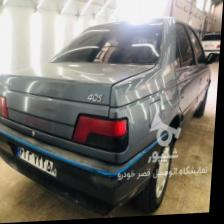plate: (15, 142, 59, 178)
